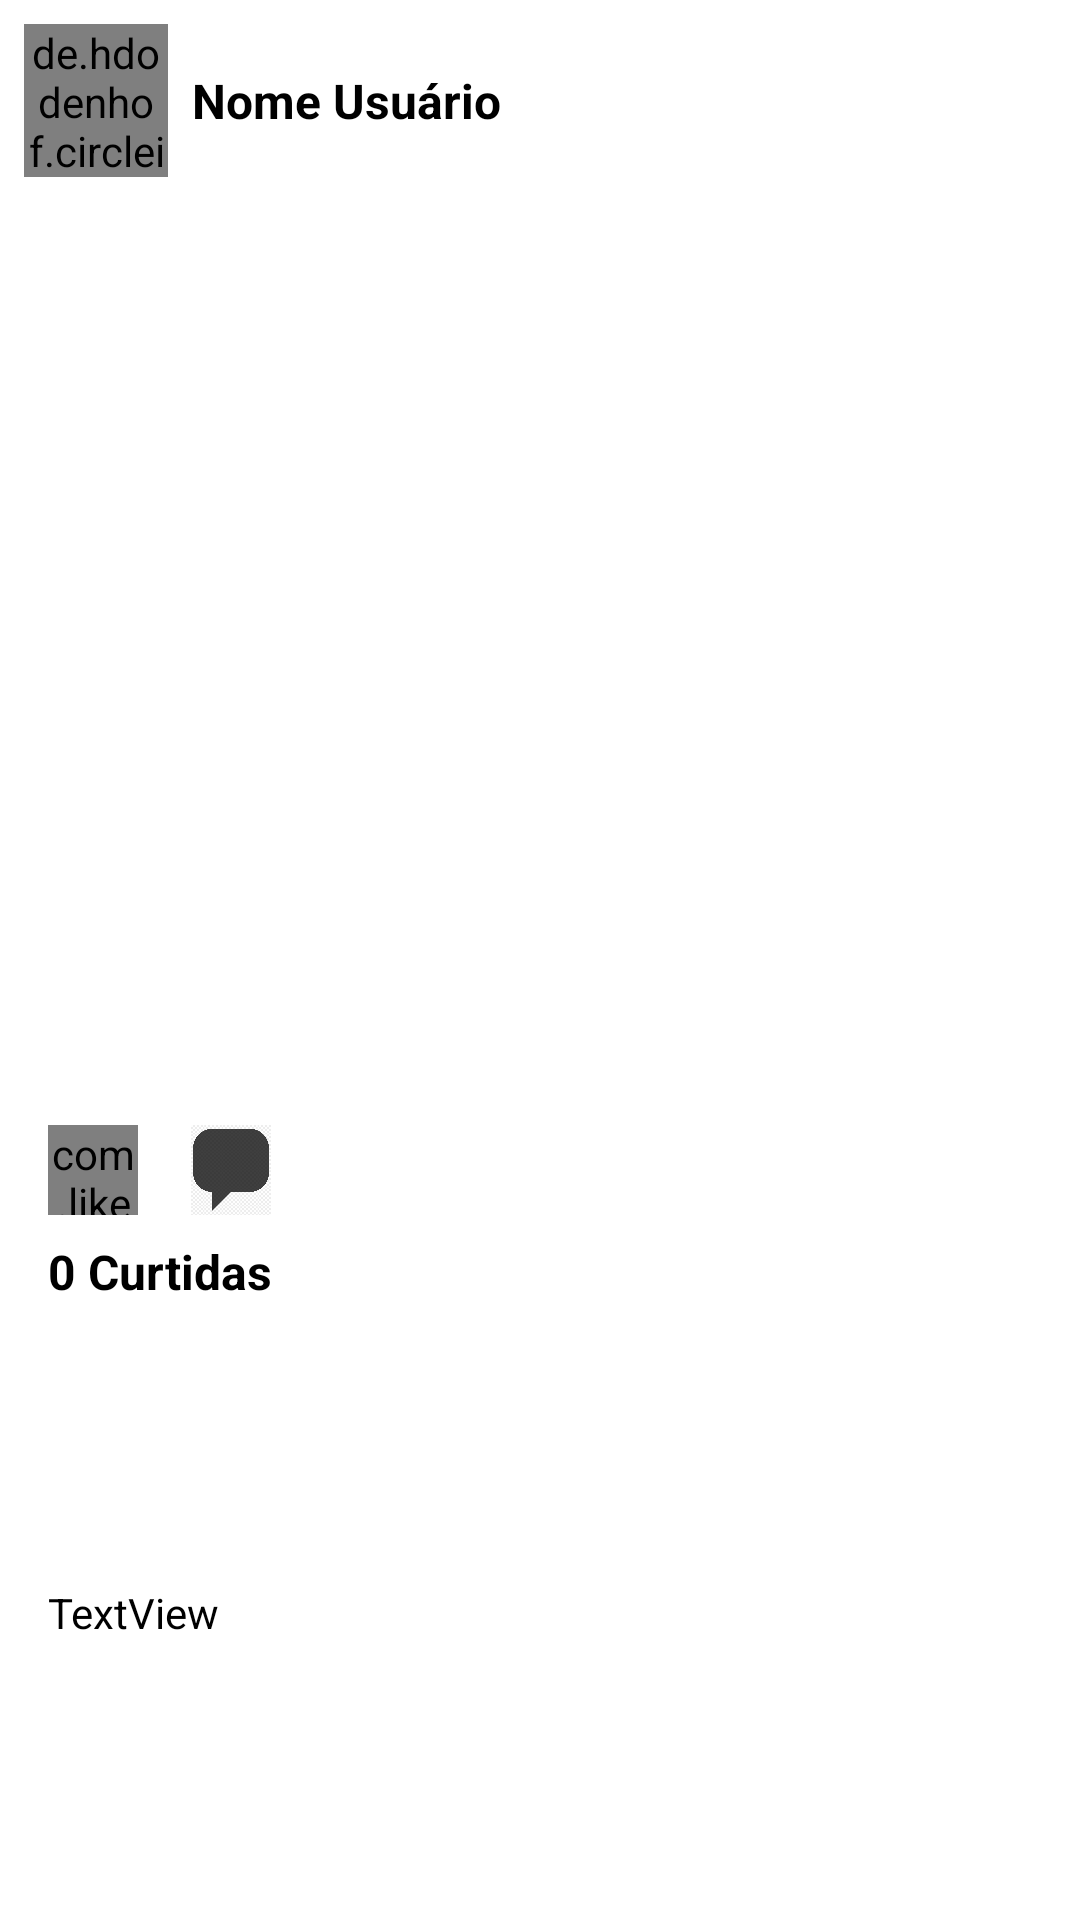

Point at icon controls on the screen. Image size 1080x1920, points as point (x, y).
comentario: point (231, 1170)
